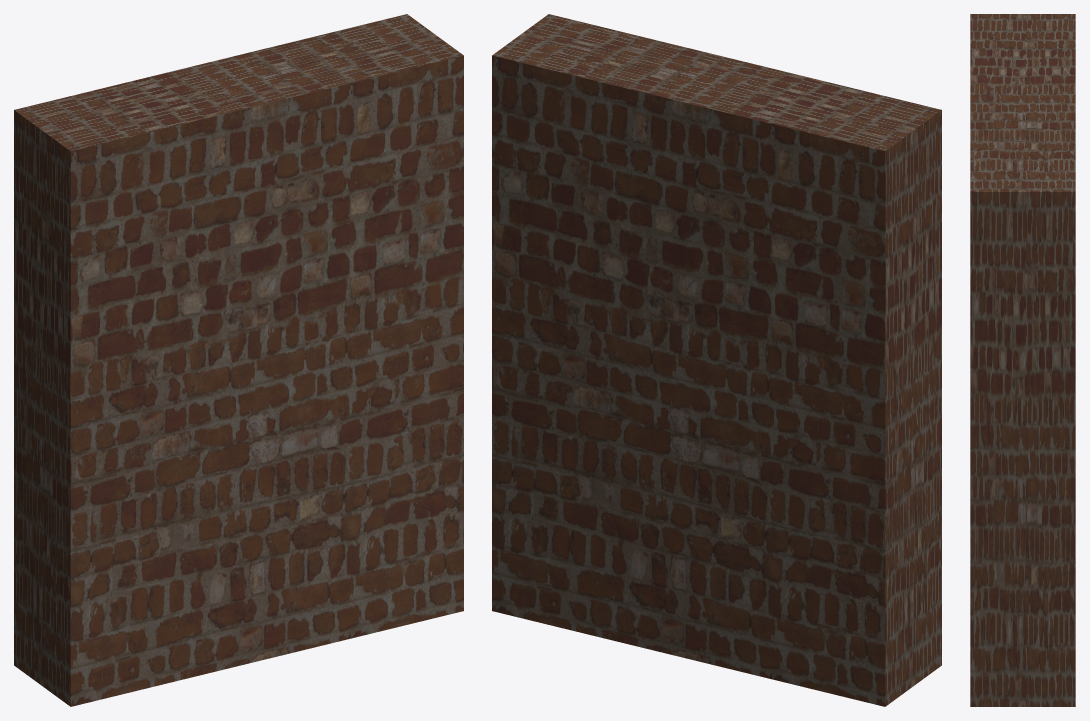
Rendered from wall_001.glb.
3 views of the same model, side by side, from view 1: azimuth 30°, elevation 25°; view 2: azimuth 150°, elevation 25°; view 3: azimuth 270°, elevation 25° (orthographic). The views are drawn at different scales.
Visible parts, largest first — view 1: Wall_001-col; view 2: Wall_001-col; view 3: Wall_001-col.
Boxes of the visible parts, x1=… form: Wall_001-col: x1=14, y1=14, x2=463, y2=706; Wall_001-col: x1=492, y1=14, x2=941, y2=706; Wall_001-col: x1=970, y1=14, x2=1075, y2=706.
Size of the model in its own units: 2 by 2.7 by 0.5.
1 material, 1 textured.
